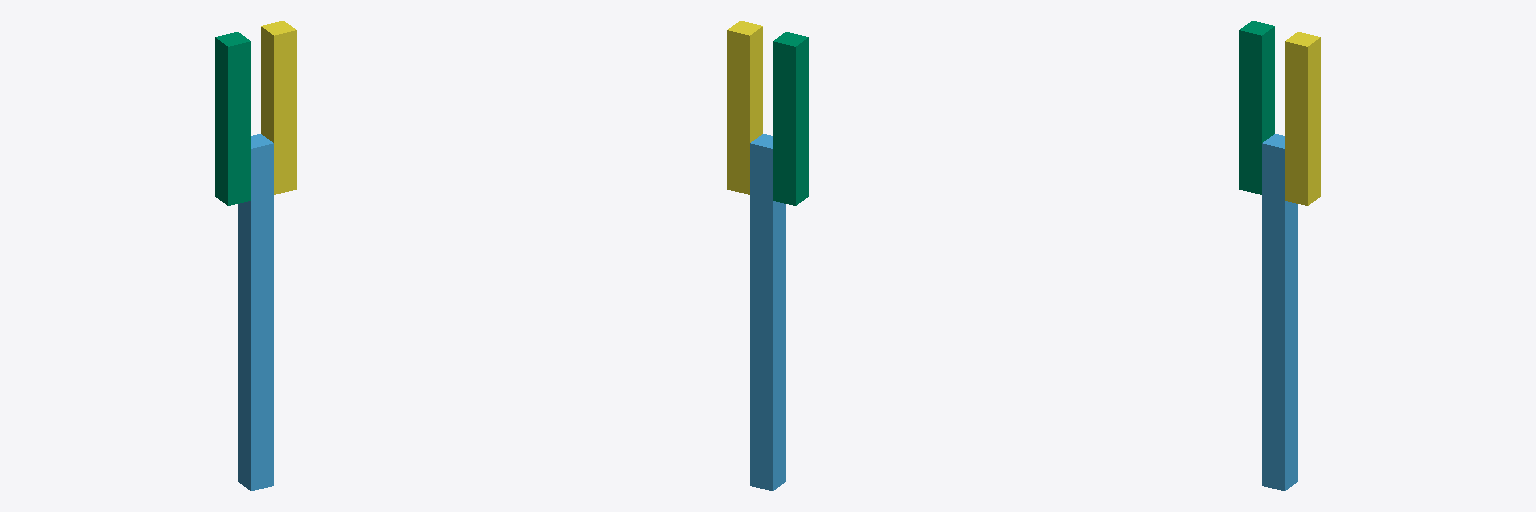
robot.urdf — coupled_pendulum:
<!-- <?xml version="1.0" ?> -->
<!-- Example modified from rrbot example -->
<robot name="coupled_pendulum">
  <!-- Use a dummy "base_link" as in REP-120 models -->
  <link name="base_link"/>
  <joint name="fake_base_fixed_joint" type="fixed">
    <parent link="base_link"/>
    <child link="base"/>
  </joint>
  
  <!-- Base Link -->
  <link name="base">
    <collision>
      <origin rpy="0 0 0" xyz="0 0 1.0"/>
      <geometry>
        <box size="0.15 0.15 2.15"/>
      </geometry>
    </collision>
    <visual>
      <origin rpy="0 0 0" xyz="0 0 1.0"/>
      <geometry>
        <box size="0.15 0.15 2.15"/>
      </geometry>
      <material name="orange"/>
    </visual>
    <inertial>
      <mass value="1000"/>
      <origin rpy="0 0 0" xyz="0 0 0.0"/>
      <inertia ixx="1.0" ixy="0.0" ixz="0.0" iyy="1.0" iyz="0.0" izz="1.0"/>
    </inertial>
  </link>

  <!-- link1 -->
  <link name="link1">

    <visual>
      <origin rpy="0 0 0" xyz="0.0 0 -0.5"/>
      <geometry>
        <box size="0.15 0.15 1.00"/>
      </geometry>
    </visual>    

    <inertial>
      <origin rpy="-0.00 0 0" xyz="0 0.0 -0.9"/>
      <mass value="1"/>
      <inertia ixx="1.0" ixy="0.0" ixz="0.0" iyy="1.0" iyz="0.0" izz="1.0"/>
    </inertial>
  </link>

  <!-- link2 -->
  <link name="link2">

    <visual>
      <origin rpy="0 0 0" xyz="0.0 0 -0.5"/>
      <geometry>
        <box size="0.15 0.15 1.00"/>
      </geometry>
    </visual>
    
    <inertial>
      <origin rpy="-0.30 0 0" xyz="0 0 -0.90"/>
      <mass value="1"/>
      <inertia ixx="1.0" ixy="0.0" ixz="0.0" iyy="1.0" iyz="0.0" izz="1.0"/>
    </inertial>
  </link>
  
  <joint name="lower_joint" type="revolute">
    <parent link="base_link" />
    <child link="link2"/>
    <origin rpy="3.1415 0 0" xyz="0.15 0 1.75"/>
    <axis xyz="1 0 0"/>
    <limit effort="100" velocity="100.0" lower="-5" upper="5" />
  </joint>

  <joint name="upper_joint" type="revolute">
    <parent link="base_link" />
    <child link="link1"/>
    <origin rpy="3.1415 0 0" xyz="-0.15 0 1.75"/>
    <axis xyz="1 0 0"/>
    <limit effort="100" velocity="100.0" lower="-5" upper="5" />
  </joint>
  
  <gazebo>
    <!-- Create an instance the gazebo_controlboard YARP device called "controlboard_plugin_device"-->
    <plugin name="controlboard" filename="libgazebo_yarp_controlboard.so">
        <yarpConfigurationFile>model://coupled_pendulum/conf/gazebo_controlboard.ini</yarpConfigurationFile>
        <initialConfiguration>0.0 0.0</initialConfiguration>
    </plugin>
    <!-- Launch the other YARP devices, in this case a controlBoard_nws_yarp to expose the controlboard functionalities via YARP ports -->
    <plugin name="robotinterface" filename="libgazebo_yarp_robotinterface.so">
        <yarpRobotInterfaceConfigurationFile>model://coupled_pendulum/conf/coupled_pendulum_nws.xml</yarpRobotInterfaceConfigurationFile>
    </plugin>
  </gazebo>
</robot>

--- What the picture shows (computed from the rendered views, not written in the file) ---
The picture shows the robot from 3 angles, left to right: view 1: azimuth 30°, elevation 25°; view 2: azimuth 150°, elevation 25°; view 3: azimuth 330°, elevation 25°; orthographic projection.
Model coupled_pendulum with 4 links and 3 joints (2 revolute, 1 fixed), rooted at base_link, posed every joint at zero.
Visible links, largest first — view 1: base, link1, link2; view 2: base, link1, link2; view 3: base, link2, link1.
Boxes of the visible links, bbox=[...] form: base: bbox=[238, 134, 273, 490]; link1: bbox=[215, 32, 250, 205]; link2: bbox=[261, 21, 296, 194]; base: bbox=[750, 134, 785, 490]; link1: bbox=[773, 32, 808, 205]; link2: bbox=[727, 21, 762, 194]; base: bbox=[1262, 134, 1297, 490]; link2: bbox=[1285, 32, 1320, 205]; link1: bbox=[1239, 21, 1274, 194].
Size in the robot's own frame: 0.45 by 0.1501 by 2.83 metres.
Geometry: primitives only (box / cylinder / sphere), no mesh files.
